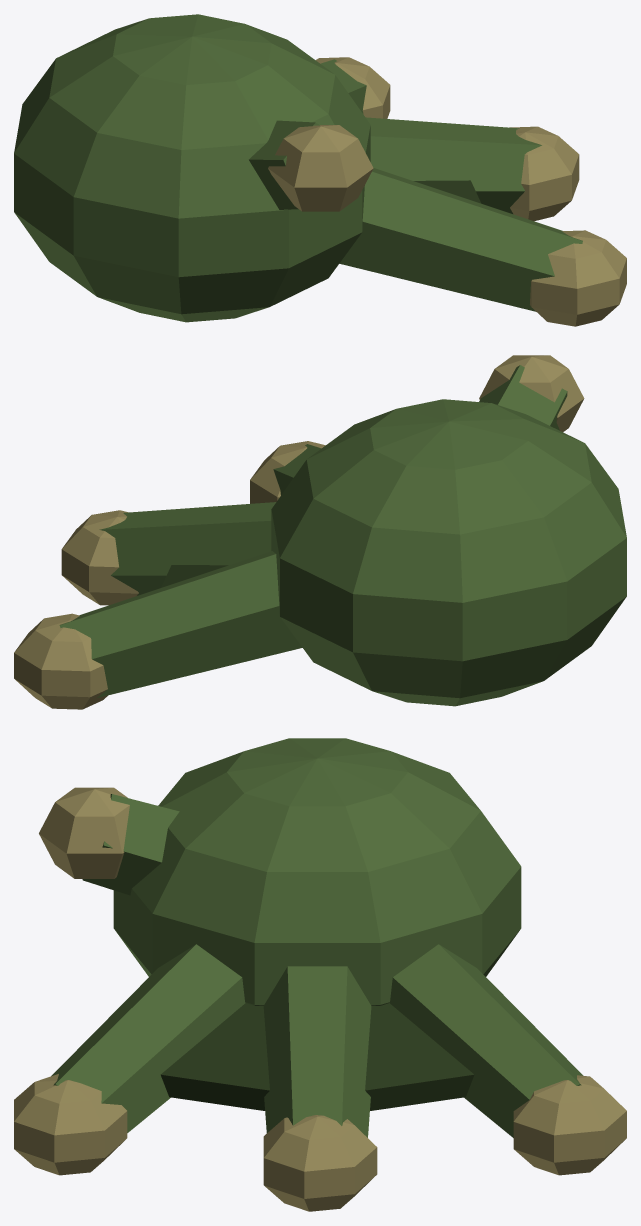
Rendered from pondkin_mudcaller_hand_l.glb.
3 views of the same model, one above another, from view 1: azimuth 30°, elevation 25°; view 2: azimuth 150°, elevation 25°; view 3: azimuth 270°, elevation 25° (orthographic). The views are drawn at different scales.
Visible parts, largest first — view 1: pondkin_mudcaller_hand_l; view 2: pondkin_mudcaller_hand_l; view 3: pondkin_mudcaller_hand_l.
Boxes of the visible parts, <box> form: pondkin_mudcaller_hand_l: <box>14,14,626,326</box>; pondkin_mudcaller_hand_l: <box>14,355,626,709</box>; pondkin_mudcaller_hand_l: <box>14,738,626,1211</box>.
Size of the model in its own units: 0.4626 by 0.22 by 0.4397.
